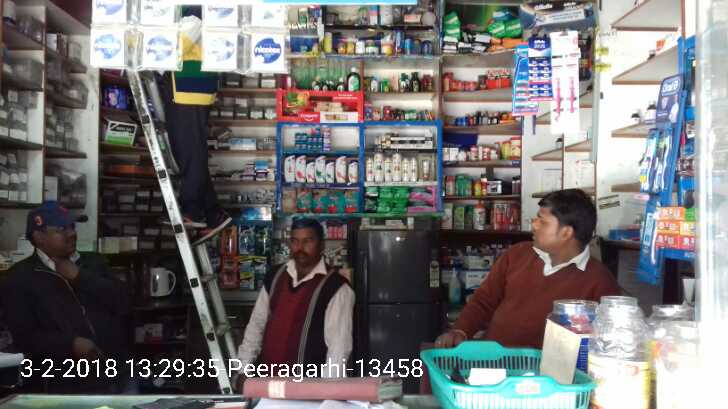vicks: (634, 76, 683, 286), (293, 124, 333, 152)
